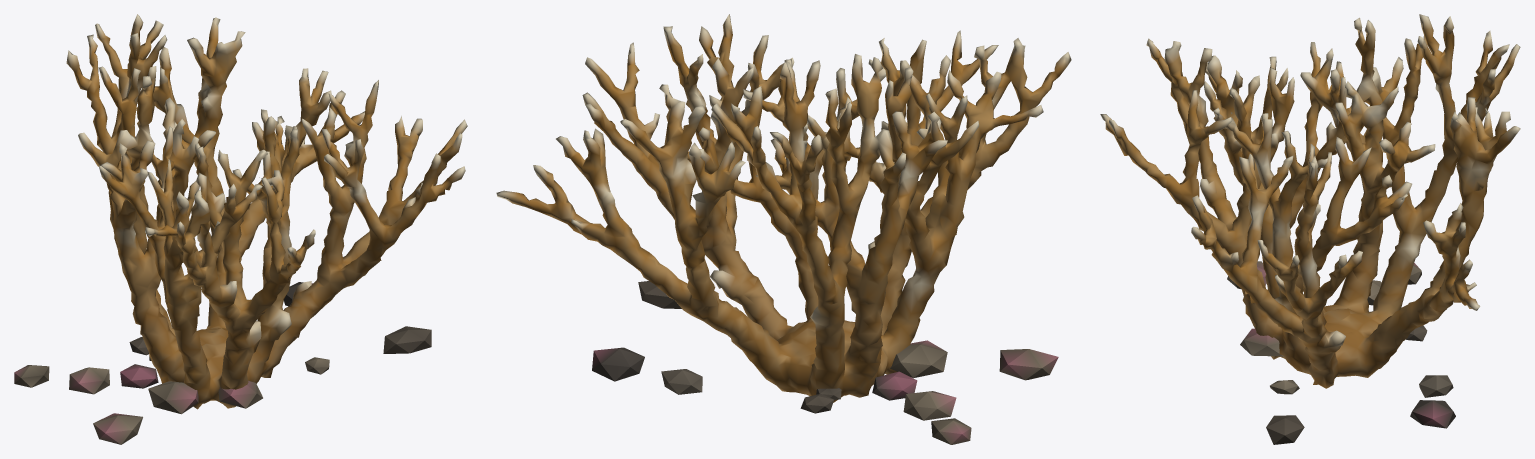
The model's file is StaghornCoral.fbx.
3 views of the same model, side by side, from view 1: azimuth 30°, elevation 25°; view 2: azimuth 150°, elevation 25°; view 3: azimuth 270°, elevation 25° (orthographic). The views are drawn at different scales.
Parts seen in each view (by area): view 1: StaghornCoral; view 2: StaghornCoral; view 3: StaghornCoral.
Part boxes in pixels (left/top/right/bottom): StaghornCoral: left=14, top=14, right=467, bottom=444; StaghornCoral: left=496, top=14, right=1071, bottom=444; StaghornCoral: left=1100, top=14, right=1520, bottom=444.
Size of the model in its own units: 1.12 by 0.9131 by 1.01.
